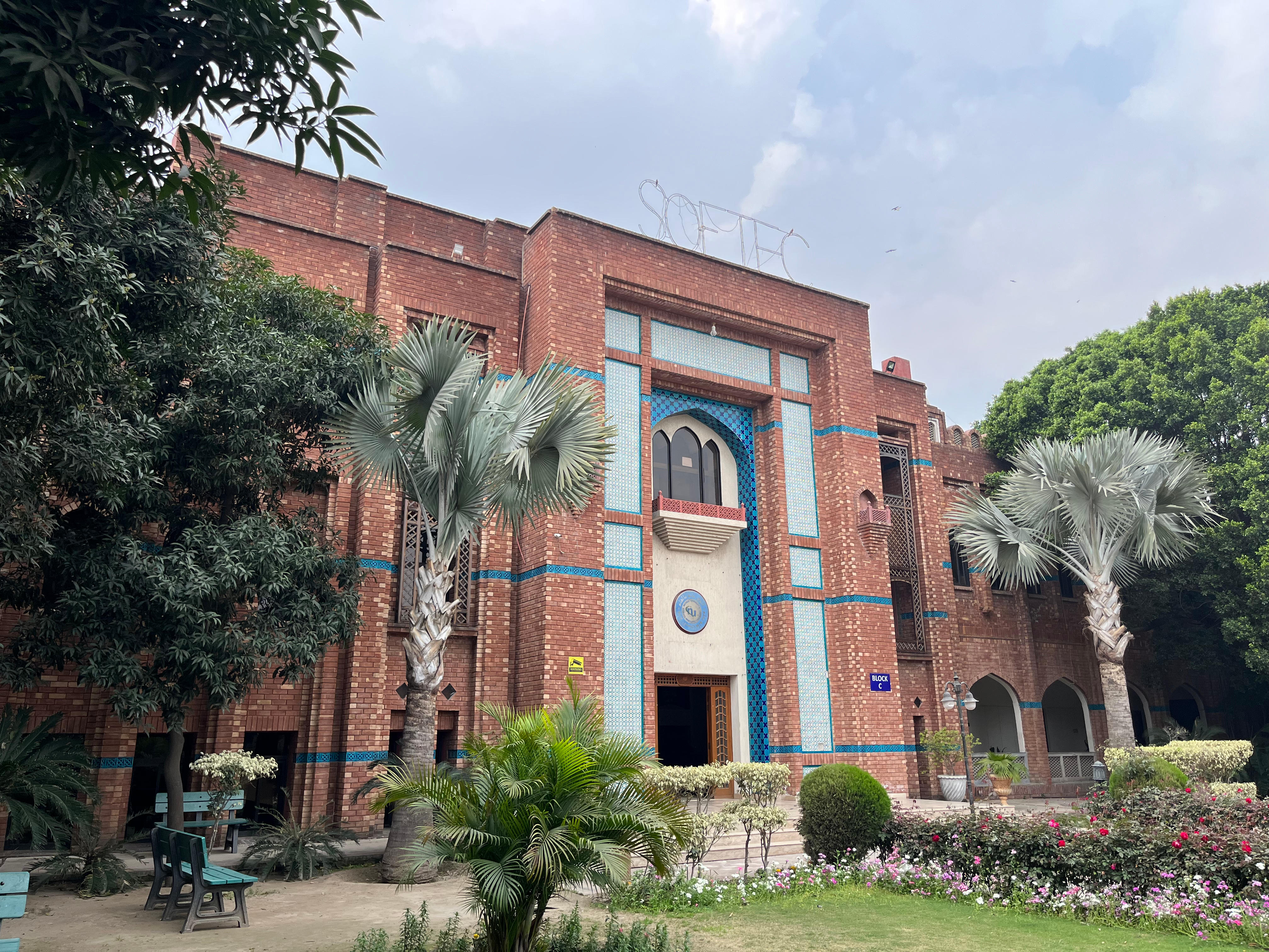Block C: (125, 146, 1230, 846)
